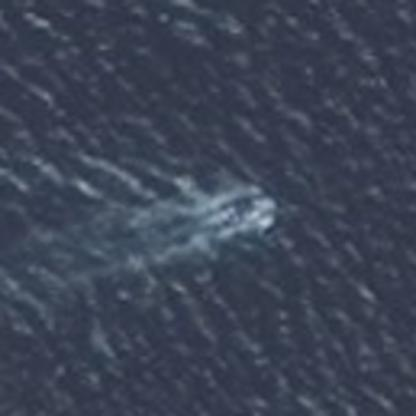ship: (195, 178, 281, 244)
